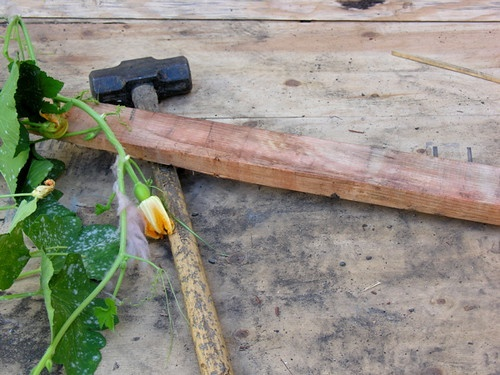hammer: (88, 55, 231, 375)
